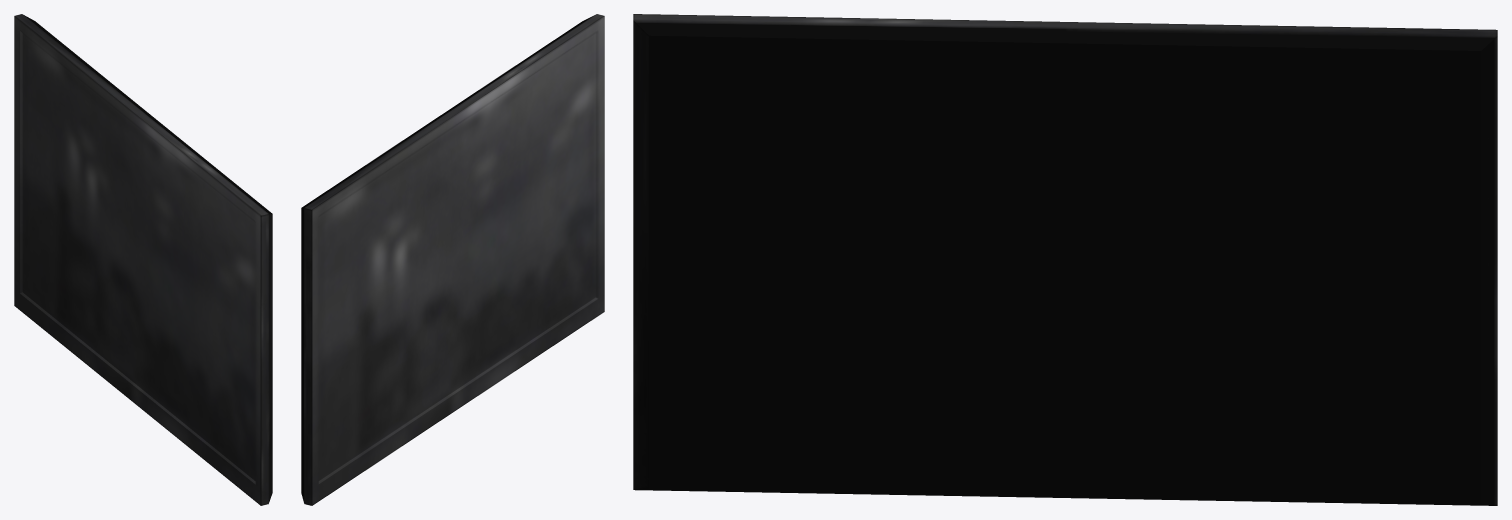
File: dianshi002.obj
The picture shows the model from 3 angles, left to right: view 1: azimuth 30°, elevation 25°; view 2: azimuth 150°, elevation 25°; view 3: azimuth 270°, elevation 25°; orthographic projection. The views are drawn at different scales.
Visible parts, largest first — view 1: DZYJY12; view 2: DZYJY12; view 3: DZYJY12.
Boxes of the visible parts, x1=… form: DZYJY12: x1=14, y1=14, x2=272, y2=505; DZYJY12: x1=301, y1=14, x2=604, y2=505; DZYJY12: x1=633, y1=14, x2=1497, y2=505.
Bounding box in the file's own units: 11.63 × 90 × 150.
Materials: 1 (1 with a texture image).
